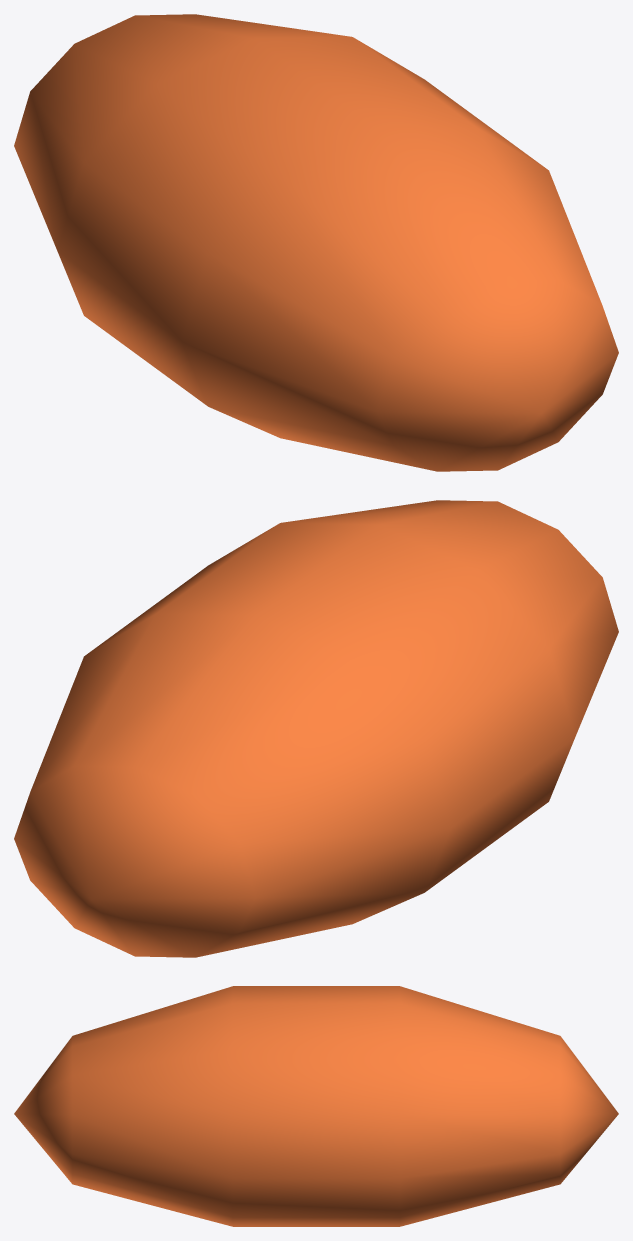
The model's file is banh mi hotdog.FBX.
The picture shows the model from 3 angles, top to bottom: view 1: azimuth 30°, elevation 25°; view 2: azimuth 150°, elevation 25°; view 3: azimuth 270°, elevation 25°; orthographic projection. The views are drawn at different scales.
Visible parts, largest first — view 1: Cylinder101; view 2: Cylinder101; view 3: Cylinder101.
Part boxes in pixels (box(x1,y1,x2,y2)): Cylinder101: box(14, 14, 618, 471); Cylinder101: box(14, 500, 618, 957); Cylinder101: box(14, 986, 618, 1226).
Bounding box in the file's own units: 1.11 × 0.8289 × 2.21.
